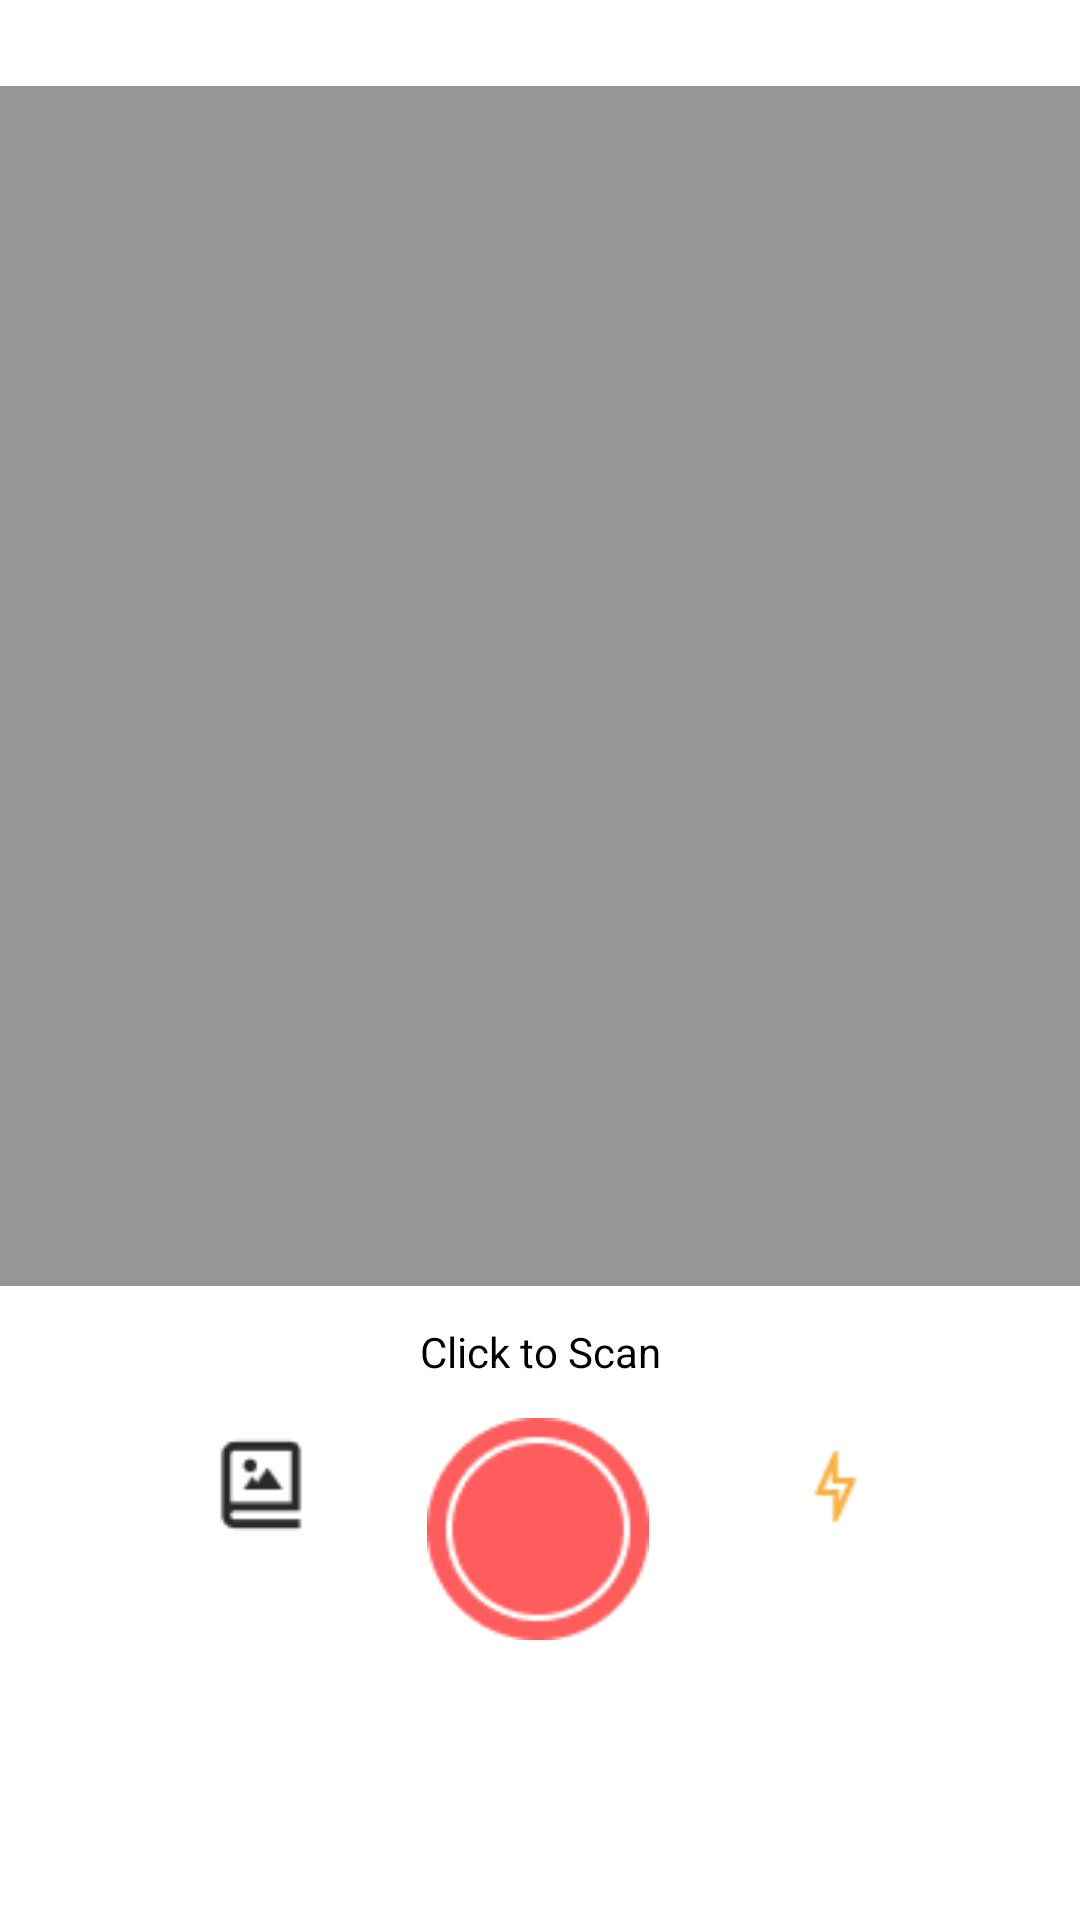

Where icons sit on this 1080*1920 app screen, as (x1, y1, x2, y2):
flash: (814, 1450, 857, 1523)
gallery: (220, 1440, 302, 1530)
